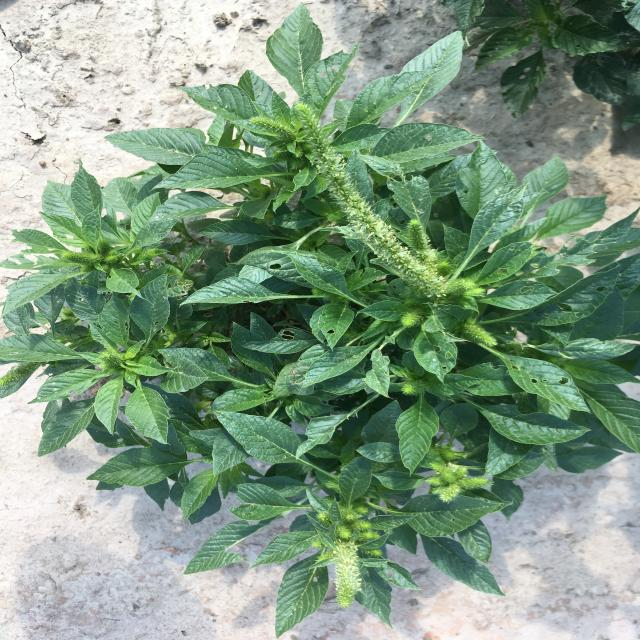PalmerAmaranth: (1, 3, 640, 638)
